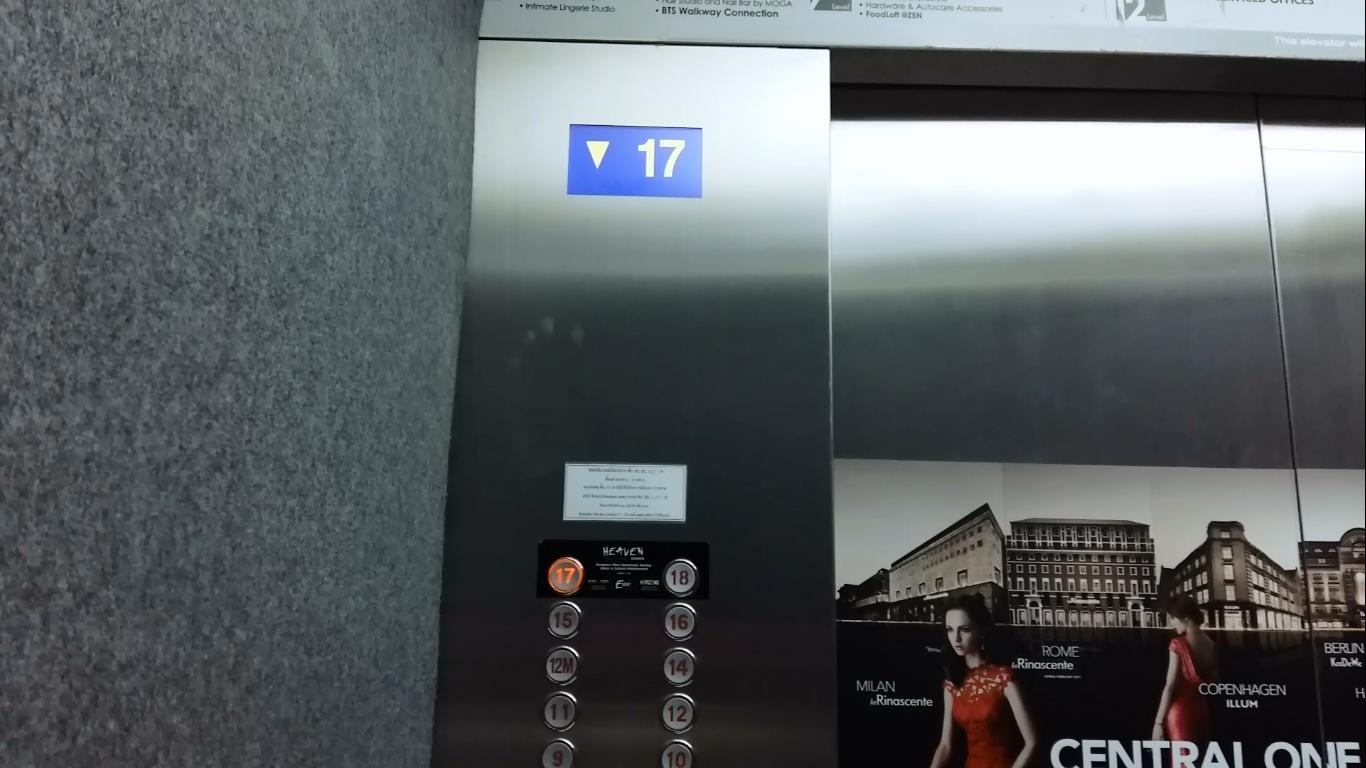10: (657, 738, 696, 768)
11: (540, 690, 581, 733)
12: (656, 691, 698, 735)
12M: (540, 645, 584, 687)
14: (658, 646, 700, 688)
15: (545, 600, 583, 640)
16: (657, 601, 699, 643)
17: (546, 553, 585, 596)
18: (661, 556, 701, 598)
9: (537, 737, 578, 768)
led: (569, 120, 705, 203)
